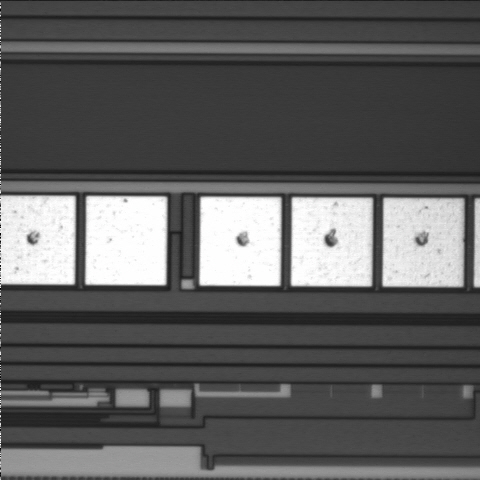pad: (85, 196, 167, 285), (199, 197, 281, 286), (291, 197, 373, 286), (383, 198, 464, 287)
